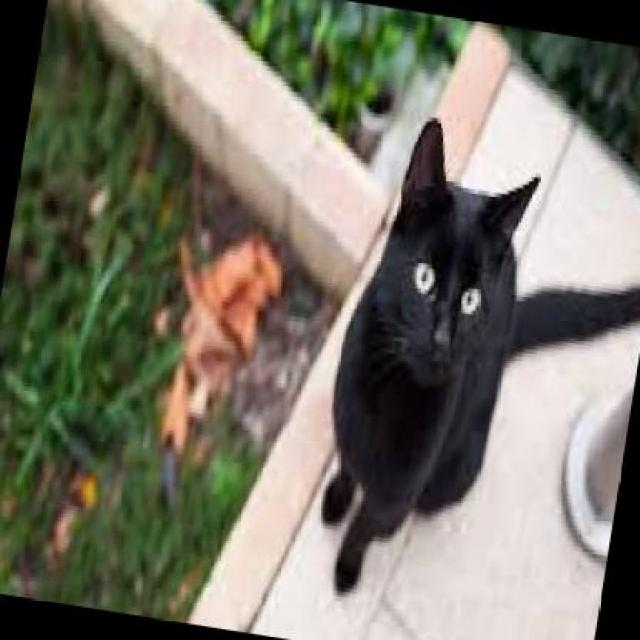animals: (280, 109, 638, 637)
